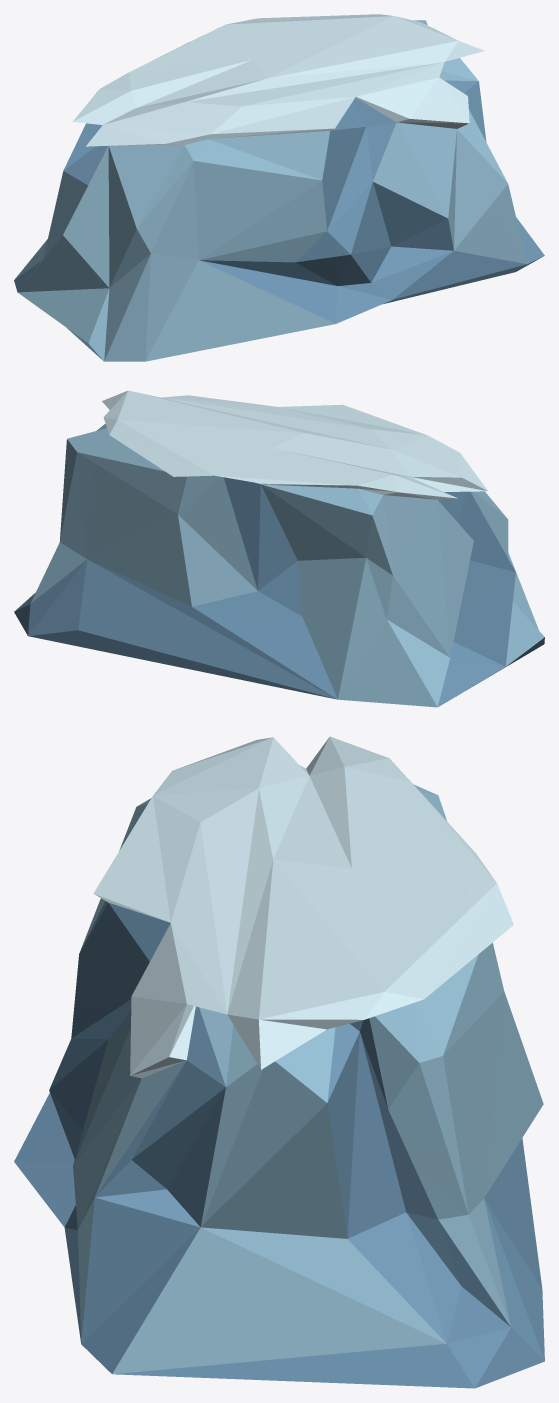
File: Glacier_Level_2.glb
The picture shows the model from 3 angles, top to bottom: view 1: azimuth 30°, elevation 25°; view 2: azimuth 150°, elevation 25°; view 3: azimuth 270°, elevation 25°; orthographic projection. The views are drawn at different scales.
Parts seen in each view (by area): view 1: SM_Env_Glacier_03; view 2: SM_Env_Glacier_03; view 3: SM_Env_Glacier_03.
Boxes of the visible parts, x1,y1,x2,y2 form: SM_Env_Glacier_03: (14, 14, 544, 361); SM_Env_Glacier_03: (14, 390, 544, 707); SM_Env_Glacier_03: (14, 736, 544, 1388).
Size of the model in its own units: 10.06 by 4.24 by 5.91.
Materials: 1 (1 with a texture image).
